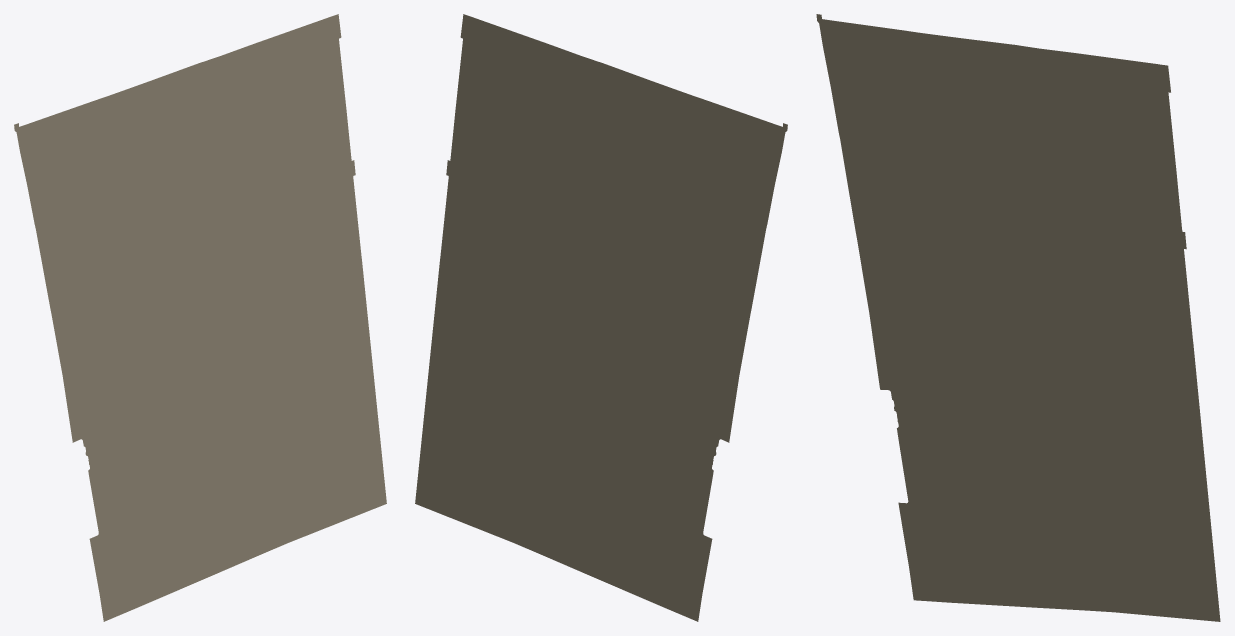
Rendered from mount-platform-surface.obj.
3 renders of one model, left to right at view 1: azimuth 30°, elevation 25°; view 2: azimuth 150°, elevation 25°; view 3: azimuth 330°, elevation 25°, orthographic. The views are drawn at different scales.
Parts seen in each view (by area): view 1: mount-platform-surface; view 2: mount-platform-surface; view 3: mount-platform-surface.
Part boxes in pixels (bbox=[...]): mount-platform-surface: bbox=[14, 14, 386, 621]; mount-platform-surface: bbox=[415, 14, 787, 621]; mount-platform-surface: bbox=[816, 14, 1220, 621].
Bounding box in the file's own units: 363 × 512 × 0.
